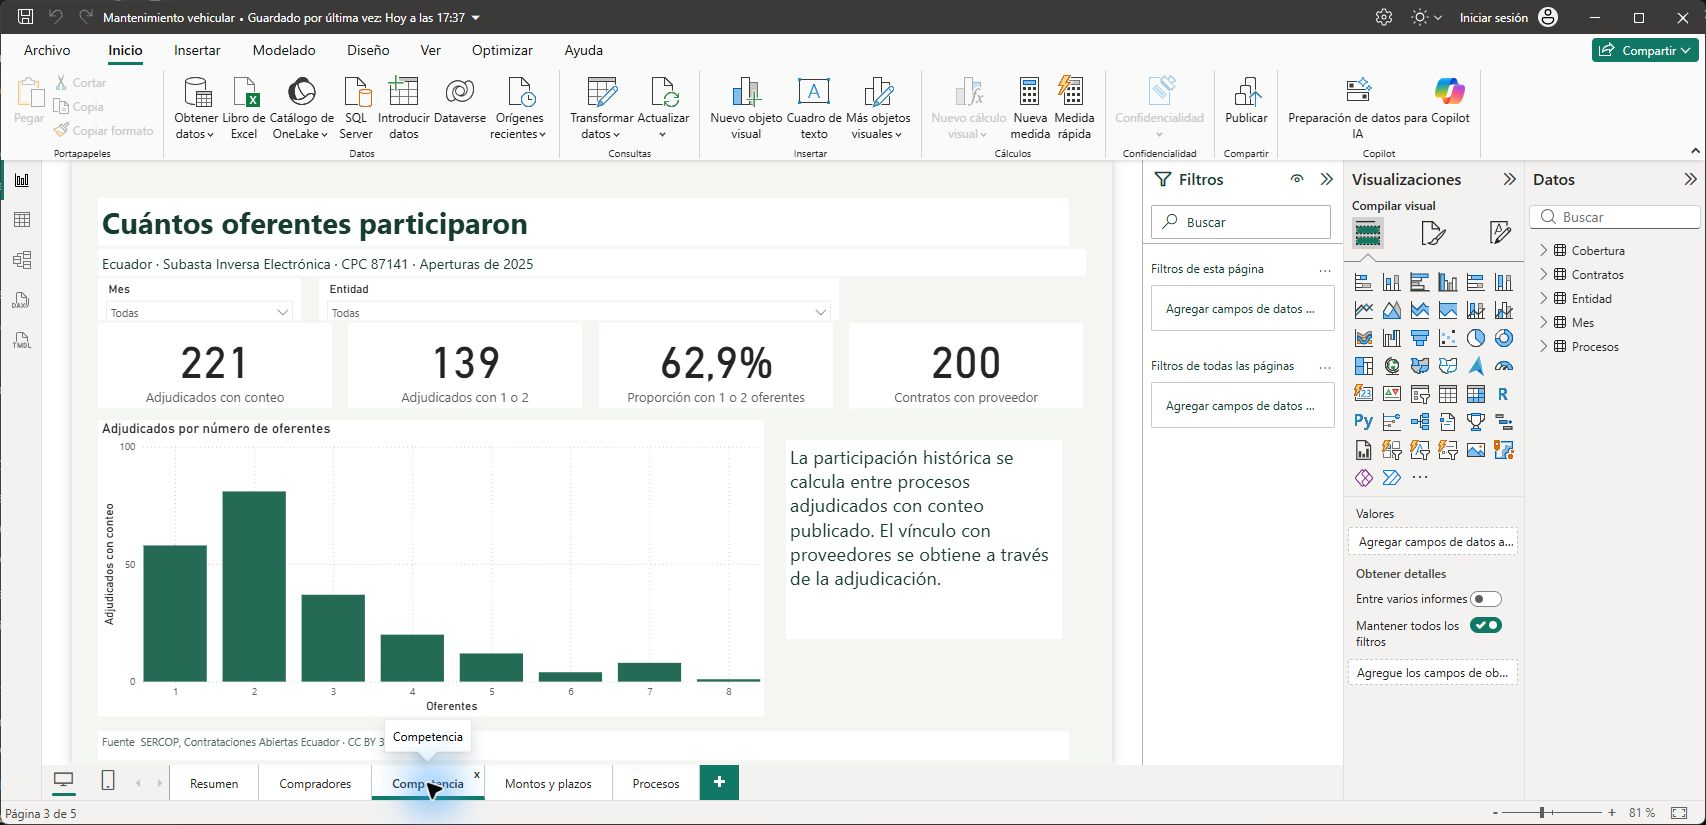

Layout of this report page (visuals, bound fields, positions):
{"tool":"powerbi","page":{"name":"Competencia","canvas":[1280,720],"ordinal":2},"visuals":[{"type":"textbox","box":[32,22,1195,59],"z":100},{"type":"textbox","box":[32,85,1216,33],"z":200},{"type":"slicer","fields":{"Values":["Mes.Mes"]},"box":[32,121,250,52],"z":300},{"type":"slicer","fields":{"Values":["Entidad.Entidad"]},"box":[304,121,640,52],"z":400},{"type":"textbox","box":[32,678,1195,36],"z":500},{"type":"card","fields":{"Values":["Procesos.Adjudicados con conteo"]},"box":[32,176,288,105],"z":600},{"type":"card","fields":{"Values":["Procesos.Adjudicados con 1 o 2"]},"box":[340,176,288,105],"z":700},{"type":"card","fields":{"Values":["Procesos.Proporción con 1 o 2 oferentes"]},"box":[648,176,288,105],"z":800},{"type":"card","fields":{"Values":["Procesos.Contratos con proveedor"]},"box":[956,176,288,105],"z":900},{"type":"columnChart","title":"Adjudicados por número de oferentes","fields":{"Category":["Procesos.Oferentes"],"Y":["Procesos.Adjudicados con conteo"]},"box":[32,295,820,365],"z":1000},{"type":"textbox","box":[879,320,340,245],"z":1100}]}

Visuals, with their boxes on the page's 1280x720 design canvas (x1, y1, x2, y2). These are canvas units, not pixel positions in the 1706x825 screenshot, which may show the page scaled, cropped or inside an application window:
textbox: bbox=[32, 22, 1227, 81]
textbox: bbox=[32, 85, 1248, 118]
slicer - Mes.Mes: bbox=[32, 121, 282, 173]
slicer - Entidad.Entidad: bbox=[304, 121, 944, 173]
textbox: bbox=[32, 678, 1227, 714]
card - Procesos.Adjudicados con conteo: bbox=[32, 176, 320, 281]
card - Procesos.Adjudicados con 1 o 2: bbox=[340, 176, 628, 281]
card - Procesos.Proporción con 1 o 2 oferentes: bbox=[648, 176, 936, 281]
card - Procesos.Contratos con proveedor: bbox=[956, 176, 1244, 281]
"Adjudicados por número de oferentes" columnChart: bbox=[32, 295, 852, 660]
textbox: bbox=[879, 320, 1219, 565]
